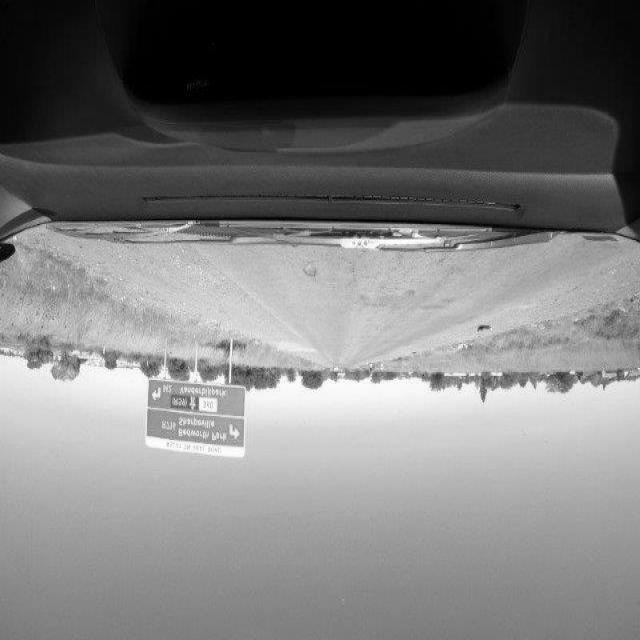lubang: (298, 258, 319, 282)
